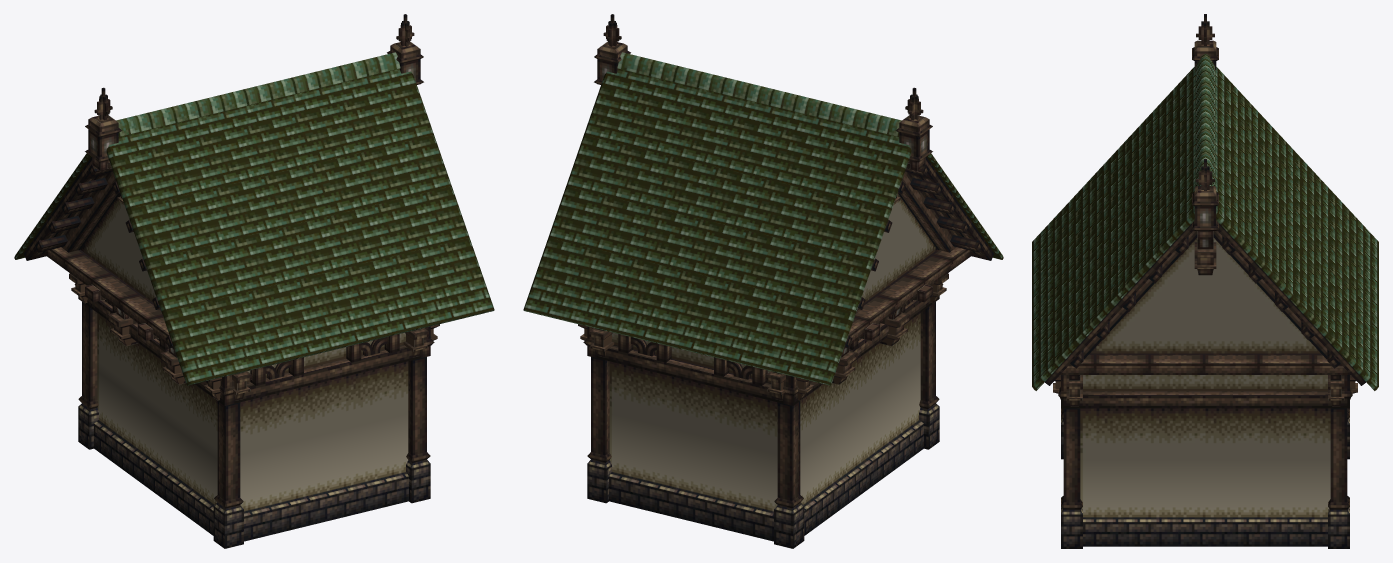
File: EnvBdgMD_City_C_Outdoor_5W4D_B.FBX
The picture shows the model from 3 angles, left to right: view 1: azimuth 30°, elevation 25°; view 2: azimuth 150°, elevation 25°; view 3: azimuth 270°, elevation 25°; orthographic projection.
Visible parts, largest first — view 1: EnvBdgMD_City_C_Outdoor_5W4D_B; view 2: EnvBdgMD_City_C_Outdoor_5W4D_B; view 3: EnvBdgMD_City_C_Outdoor_5W4D_B.
Boxes of the visible parts, x1,y1,x2,y2 form: EnvBdgMD_City_C_Outdoor_5W4D_B: [14, 14, 494, 548]; EnvBdgMD_City_C_Outdoor_5W4D_B: [523, 14, 1003, 548]; EnvBdgMD_City_C_Outdoor_5W4D_B: [1032, 14, 1378, 548].
Size of the model in its own units: 680 by 835 by 636.
